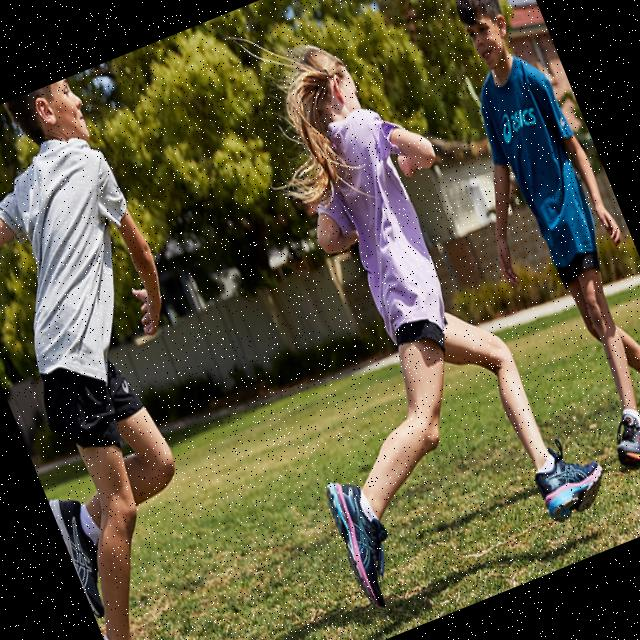Person: (165, 2, 618, 613), (0, 72, 319, 640), (394, 0, 640, 486)
